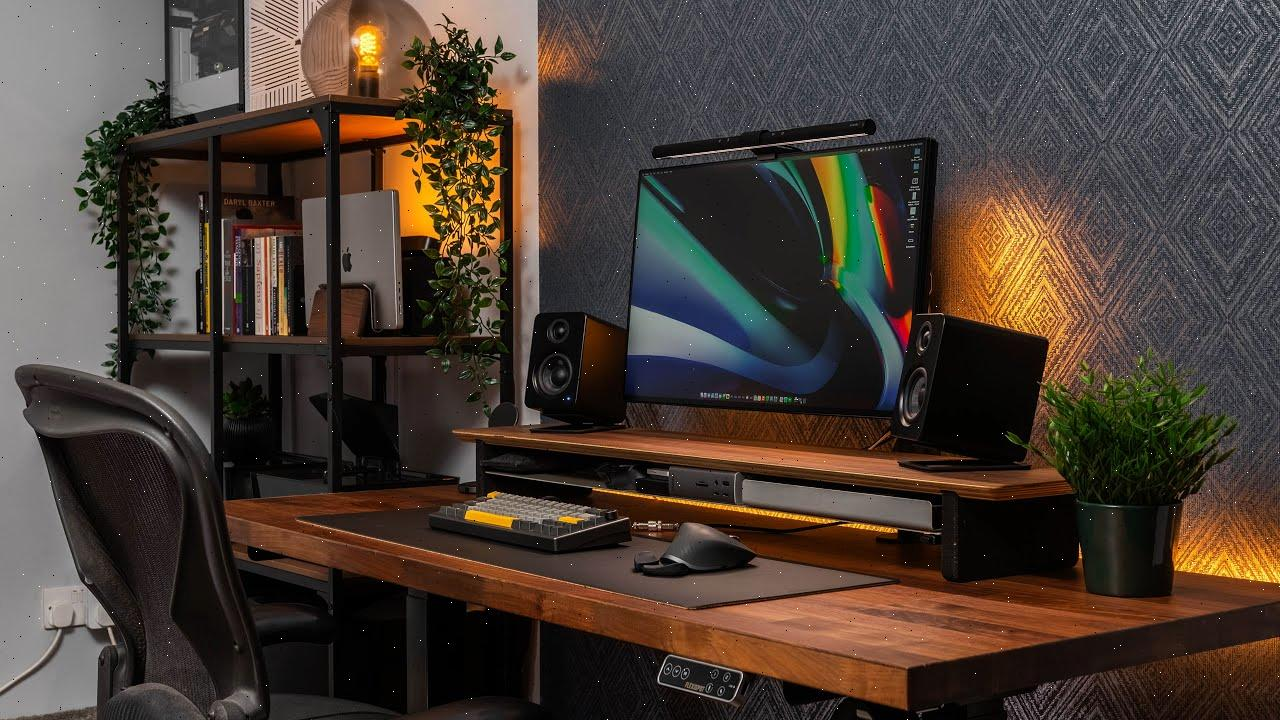keyboard: (422, 485, 639, 557)
monitor: (615, 130, 951, 420)
mouse: (646, 509, 766, 583)
pc: (156, 0, 356, 131)
